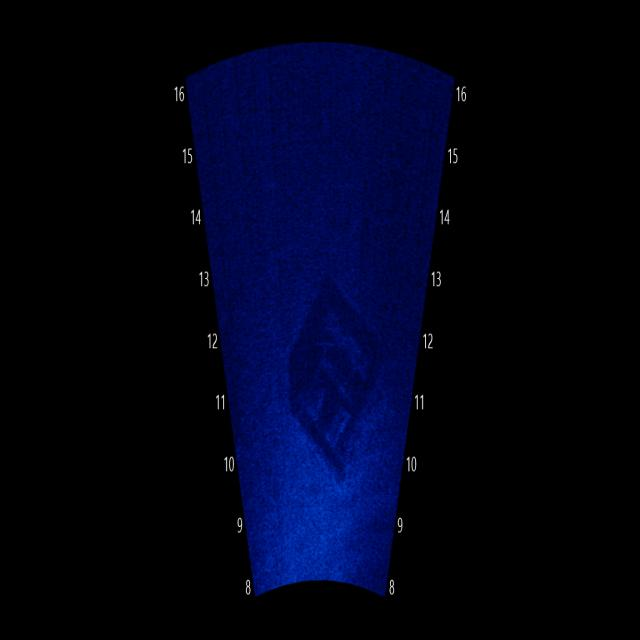square: (274, 258, 389, 491)
